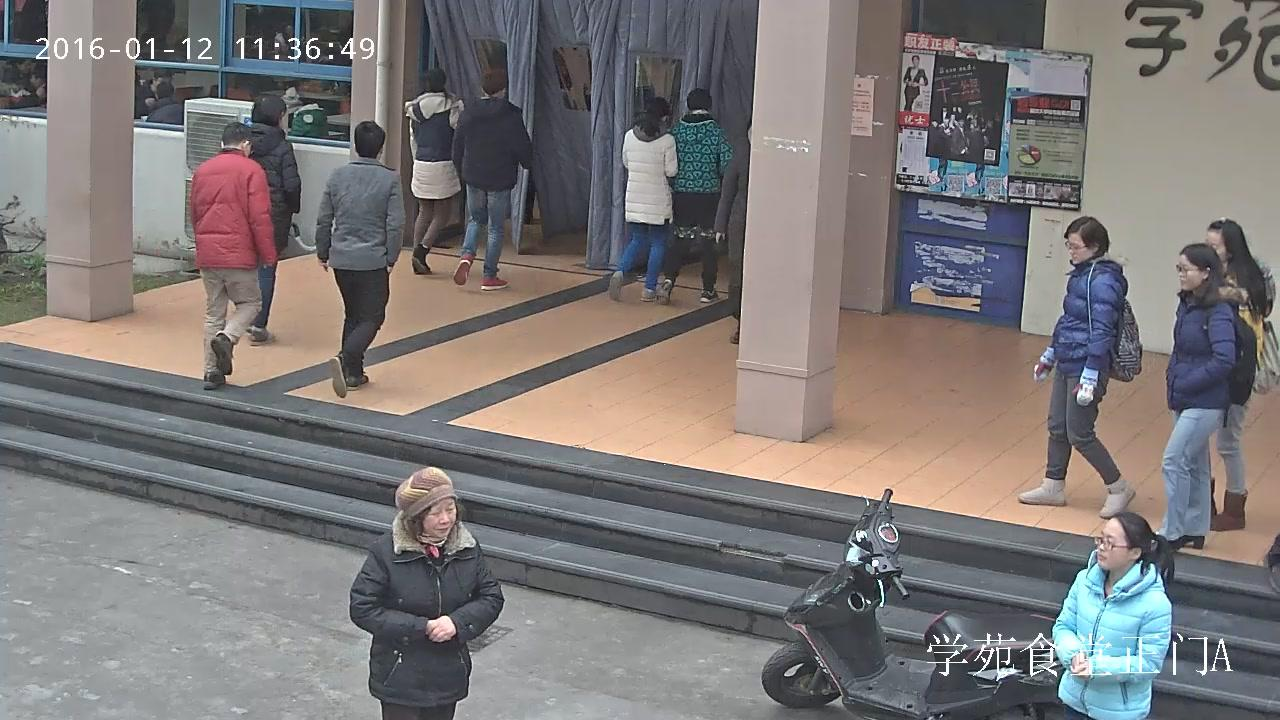person: (349, 467, 503, 719), (1018, 215, 1144, 519), (1155, 242, 1259, 550), (1050, 512, 1173, 719), (316, 120, 405, 397), (1203, 217, 1280, 530), (189, 121, 277, 390), (453, 71, 535, 291), (654, 87, 735, 305), (242, 93, 301, 346), (608, 96, 678, 301), (404, 69, 466, 275), (713, 115, 752, 343), (283, 88, 328, 137), (135, 70, 172, 119), (145, 80, 183, 124), (903, 55, 928, 111)
